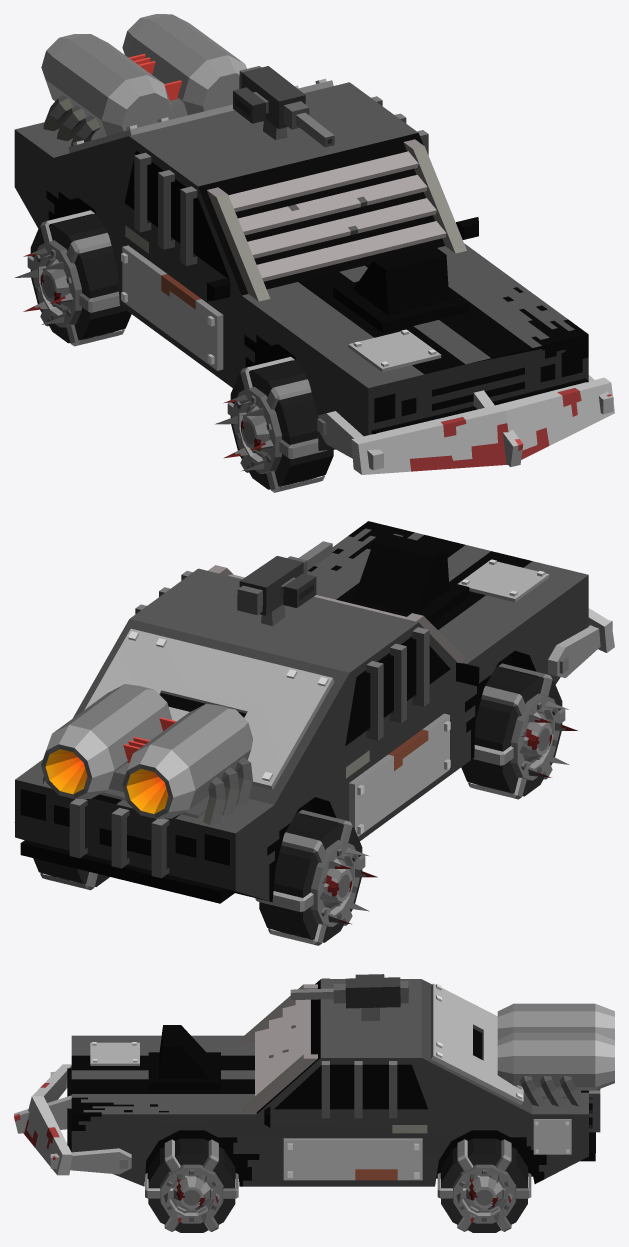
The model's file is 11_SA_Veh_Wobbler.glb.
The picture shows the model from 3 angles, top to bottom: view 1: azimuth 30°, elevation 25°; view 2: azimuth 150°, elevation 25°; view 3: azimuth 270°, elevation 25°; orthographic projection. The views are drawn at different scales.
Parts seen in each view (by area): view 1: Body, SA_Veh_MuscleCar_Extras, Nitro, Wheel_B_1gr (×2), SA_Veh_MuscleCar_Wheel_FR, SA_Veh_MuscleCar_Wheel_RR, Wheel_B_3gr (×2), gun, Wheel_B_2gr (×2); view 2: Body, SA_Veh_MuscleCar_Extras, Nitro, Wheel_B_1gr (×2), SA_Veh_MuscleCar_Wheel_RR, SA_Veh_MuscleCar_Wheel_FR, Wheel_B_3gr (×2), gun, Wheel_B_2gr (×2), SA_Veh_MuscleCar_Wheel_RL; view 3: Body, SA_Veh_MuscleCar_Extras, Nitro, Wheel_B_1gr (×2), Wheel_B_3gr (×2), SA_Veh_MuscleCar_Wheel_RL, SA_Veh_MuscleCar_Wheel_FL, gun.
Boxes of the visible parts, x1,y1,x2,y2 form: Body: (14, 82, 588, 450); SA_Veh_MuscleCar_Extras: (68, 78, 614, 474); Nitro: (41, 14, 246, 146); Wheel_B_1gr (×2): (33, 240, 281, 473); SA_Veh_MuscleCar_Wheel_FR: (230, 360, 333, 489); SA_Veh_MuscleCar_Wheel_RR: (30, 213, 131, 343); Wheel_B_3gr (×2): (27, 210, 327, 492); gun: (233, 66, 334, 147); Wheel_B_2gr (×2): (14, 248, 273, 471); Body: (15, 521, 588, 903); SA_Veh_MuscleCar_Extras: (69, 559, 614, 878); Nitro: (41, 684, 252, 825); Wheel_B_1gr (×2): (311, 693, 559, 926); SA_Veh_MuscleCar_Wheel_RR: (259, 813, 362, 942); SA_Veh_MuscleCar_Wheel_FR: (461, 667, 562, 796); Wheel_B_3gr (×2): (255, 663, 565, 945); gun: (237, 541, 332, 626); Wheel_B_2gr (×2): (319, 701, 577, 924); SA_Veh_MuscleCar_Wheel_RL: (33, 858, 109, 886); Body: (67, 979, 595, 1186); SA_Veh_MuscleCar_Extras: (14, 978, 600, 1180); Nitro: (497, 1003, 614, 1106); Wheel_B_1gr (×2): (160, 1164, 516, 1223); Wheel_B_3gr (×2): (145, 1139, 531, 1231); SA_Veh_MuscleCar_Wheel_RL: (441, 1138, 527, 1232); SA_Veh_MuscleCar_Wheel_FL: (148, 1138, 235, 1232); gun: (290, 974, 408, 1020).
Size of what is drawn, in the model's own units: 4.05 by 3.25 by 8.73.
Materials: 1 (1 with a texture image).
